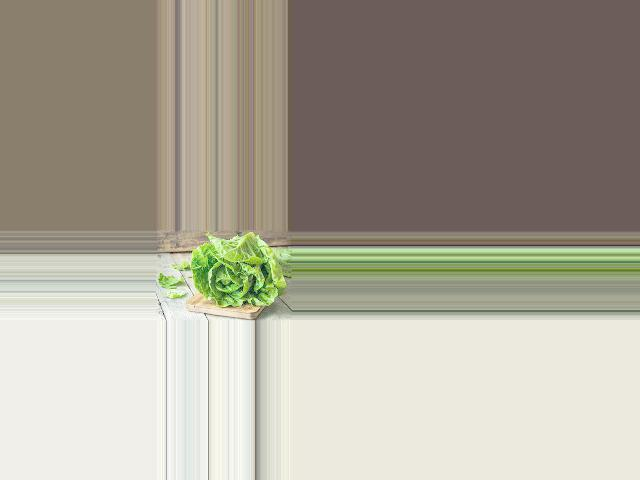lettuce: (194, 234, 287, 311)
